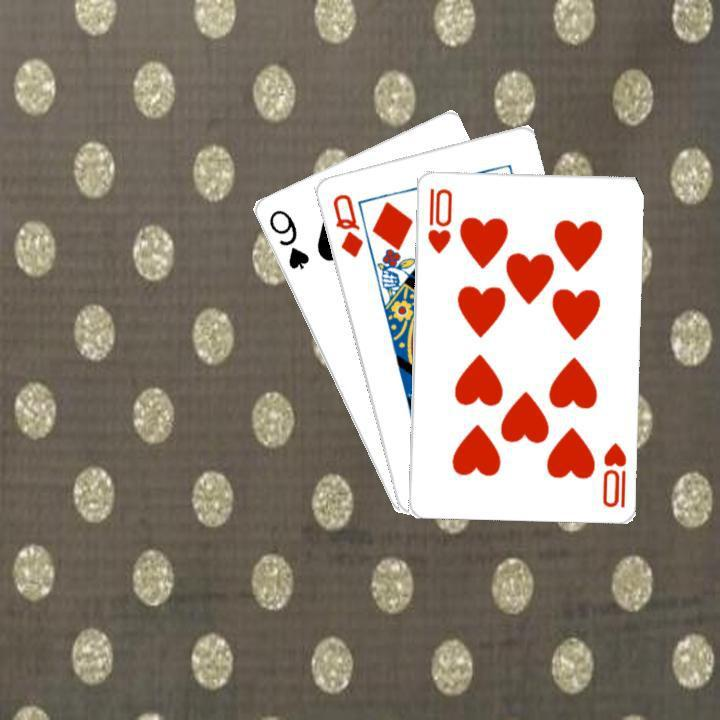10: (422, 183, 453, 255), (597, 438, 628, 509)
9: (264, 205, 311, 272)
Q: (327, 189, 365, 260)
